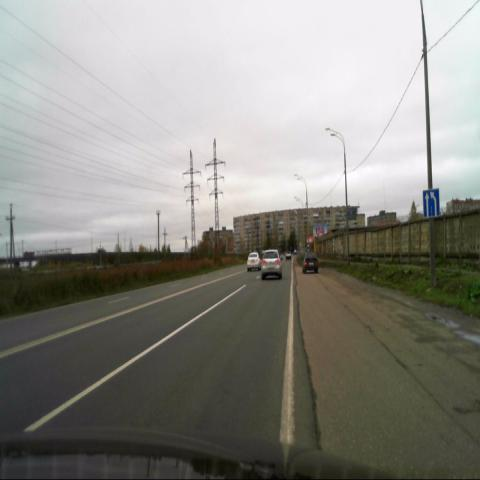5_15_5: (423, 187, 439, 218)
